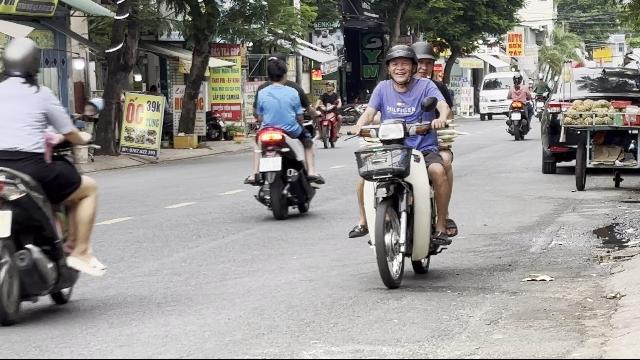helmet: (1, 36, 44, 82), (384, 44, 418, 84), (412, 40, 436, 78)
licenseplate: (258, 159, 280, 173)
motorcyclist: (0, 33, 104, 325), (346, 40, 466, 288), (244, 54, 324, 218)
nohelmet: (264, 56, 288, 84)
